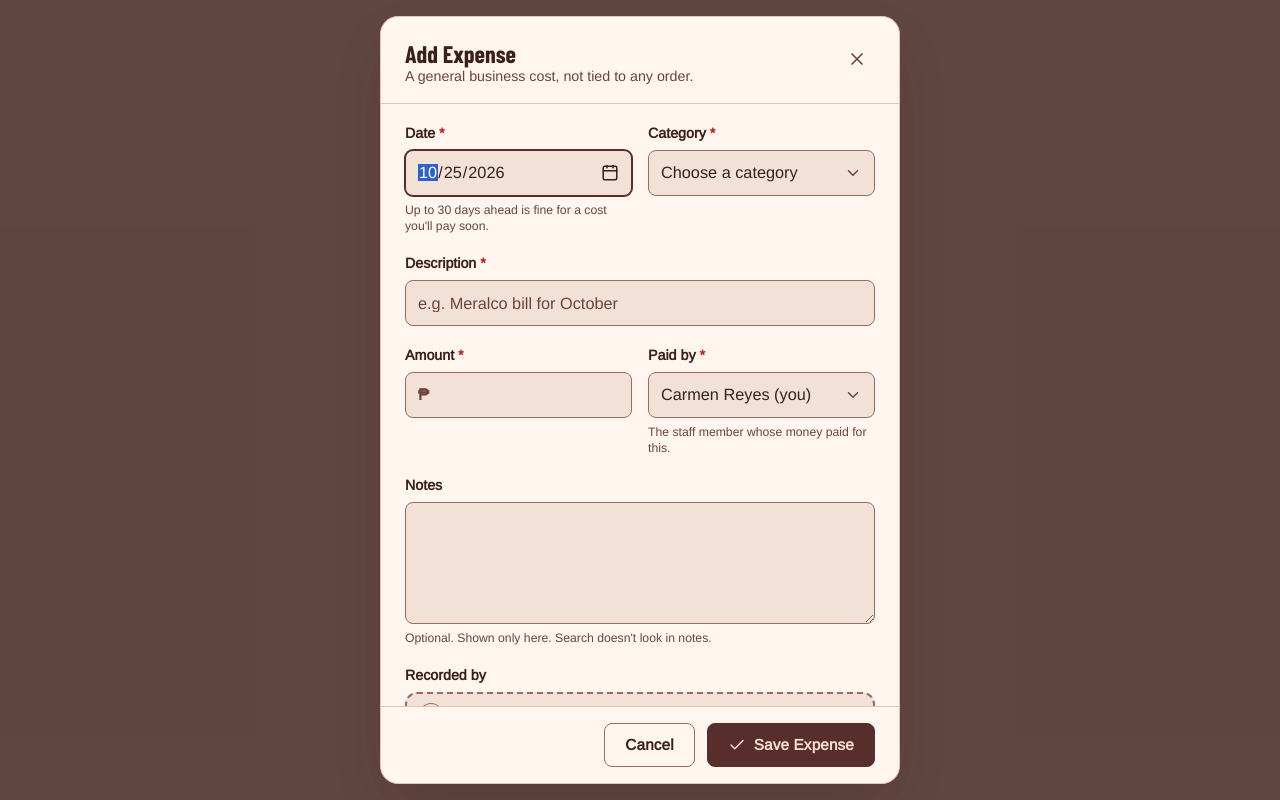
Test: E2 add mode › reads "Saving" while the request runs and sends nothing twice on a second press
Expected: the dropdown labelled "Paid by *" is enabled, [649,373,874,417]
Select "Supplies" in the dropdown labelled "Category *" at (762, 173), box [649,151,874,195]
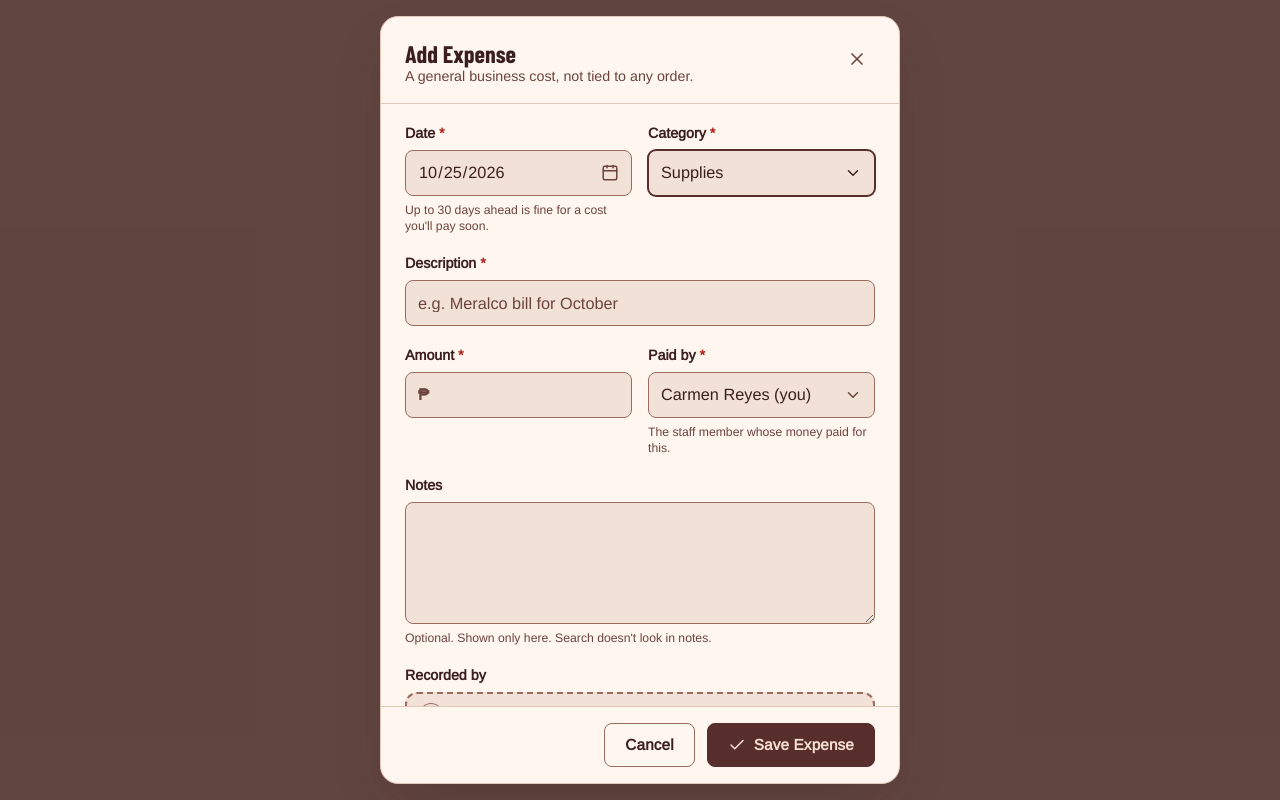
Type "Thread" into the field labelled "Description *".
click(640, 303); type("Thread")  # box [406,281,874,325]
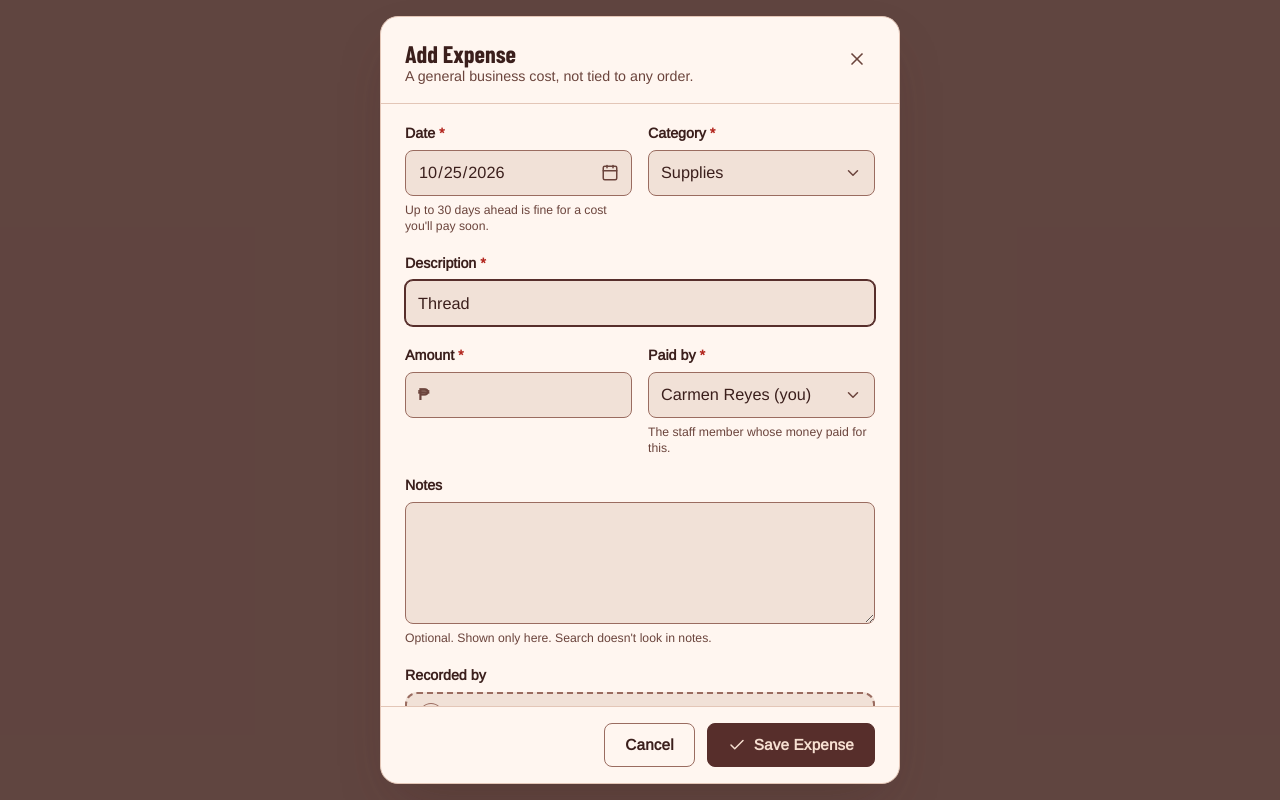
Type "12.50" into the field labelled "Amount *".
click(530, 395); type("12.50")  # box [429,373,631,417]
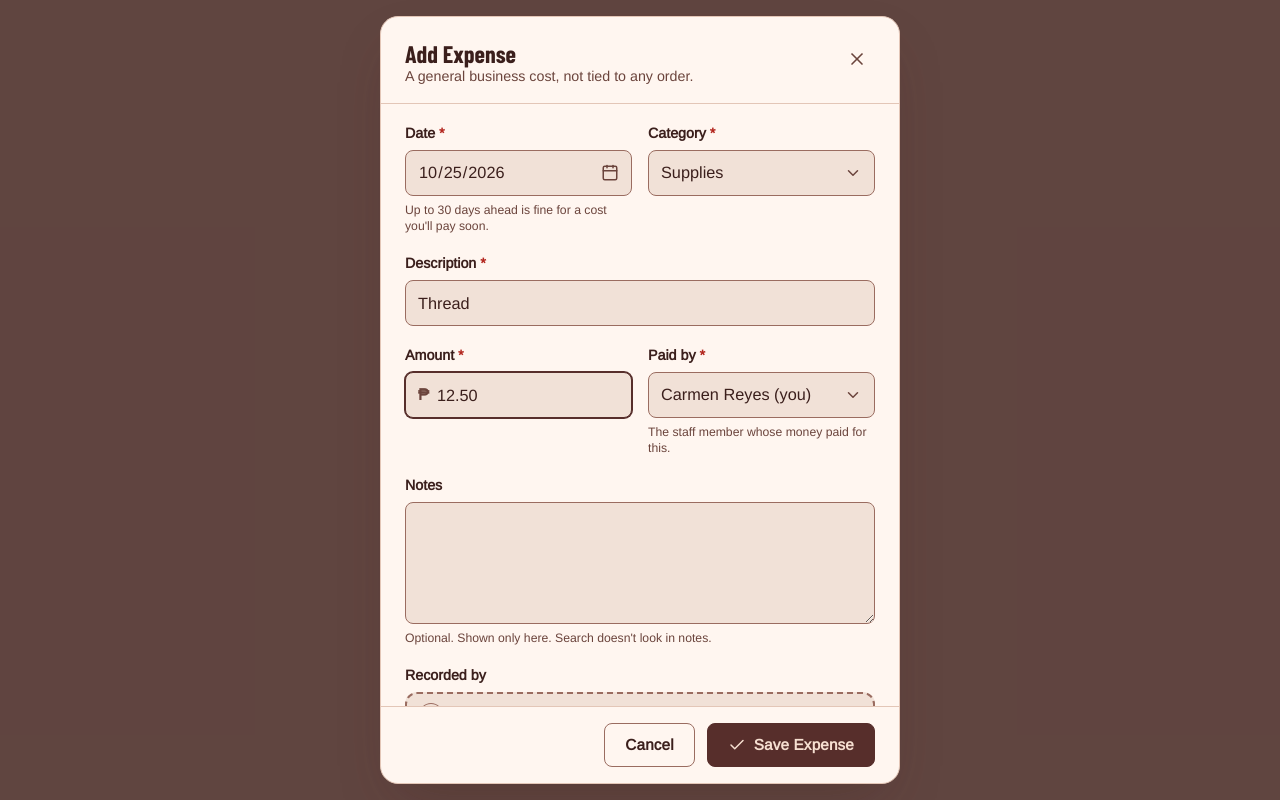
Click the button "Save Expense".
click(791, 745)  # box [707,723,875,767]
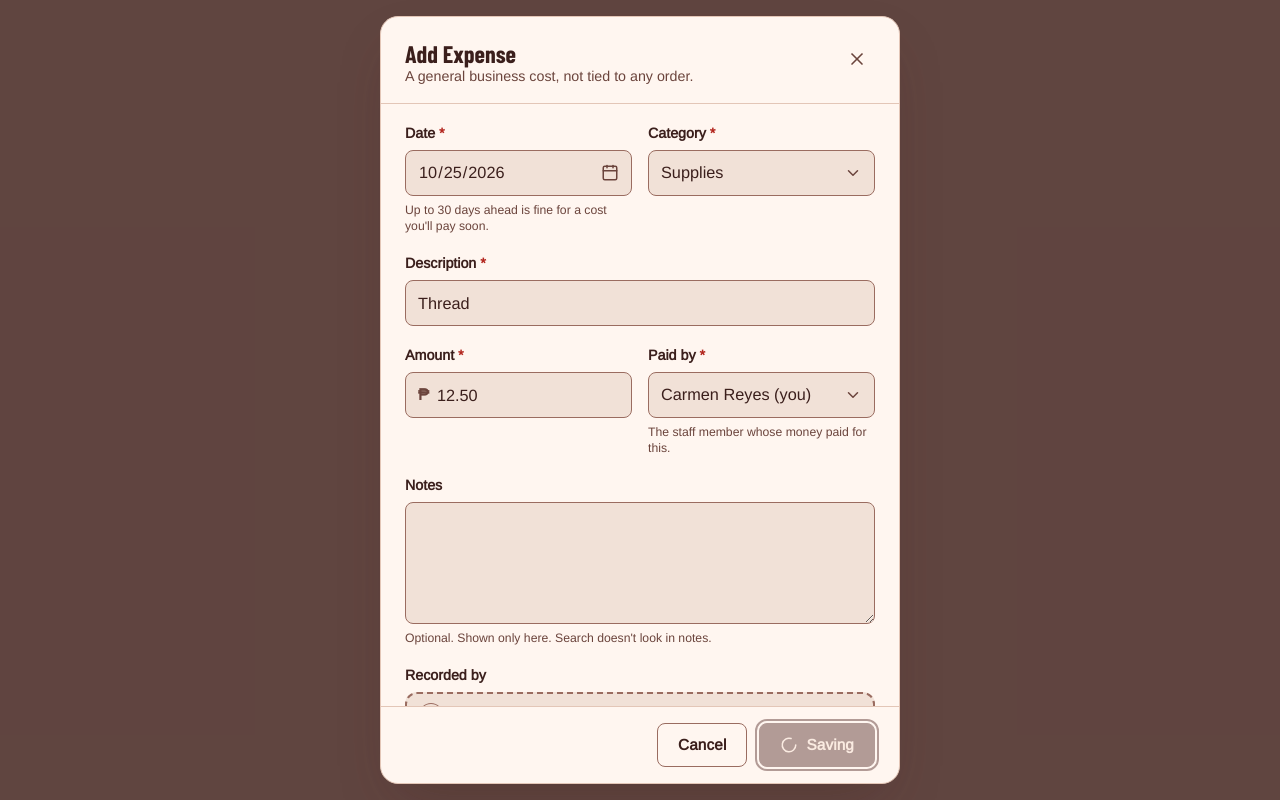
Now the button "Saving" is disabled
Click the button "Saving".
click(817, 745)  # box [759,723,875,767]
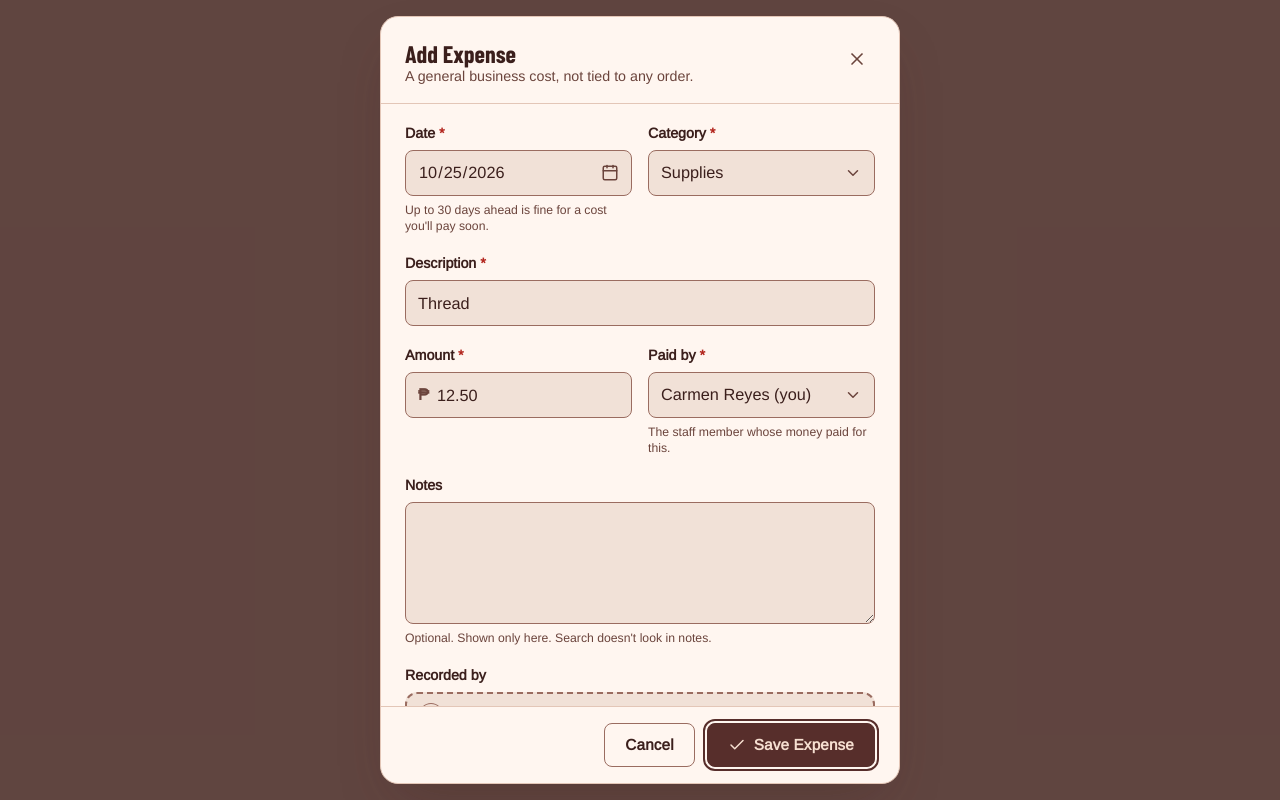
Now the button "Saving" is gone
